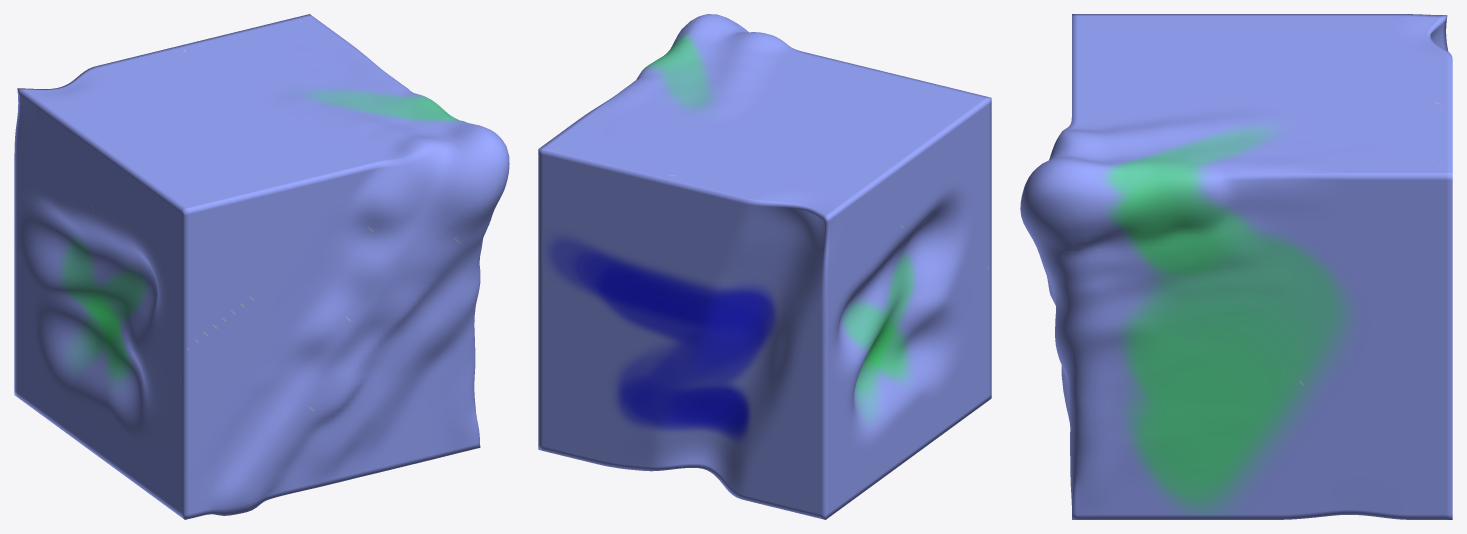
The model's file is the_earth.gltf.
3 views of the same model, side by side, from view 1: azimuth 30°, elevation 25°; view 2: azimuth 150°, elevation 25°; view 3: azimuth 270°, elevation 25° (orthographic). The views are drawn at different scales.
Parts seen in each view (by area): view 1: Cube; view 2: Cube; view 3: Cube.
Boxes of the visible parts, x1,y1,x2,y2 form: Cube: [14, 14, 509, 519]; Cube: [538, 14, 991, 519]; Cube: [1020, 14, 1452, 519].
Size of the model in its own units: 2.16 by 2.11 by 2.27.
Materials: 1 (1 with a texture image).
